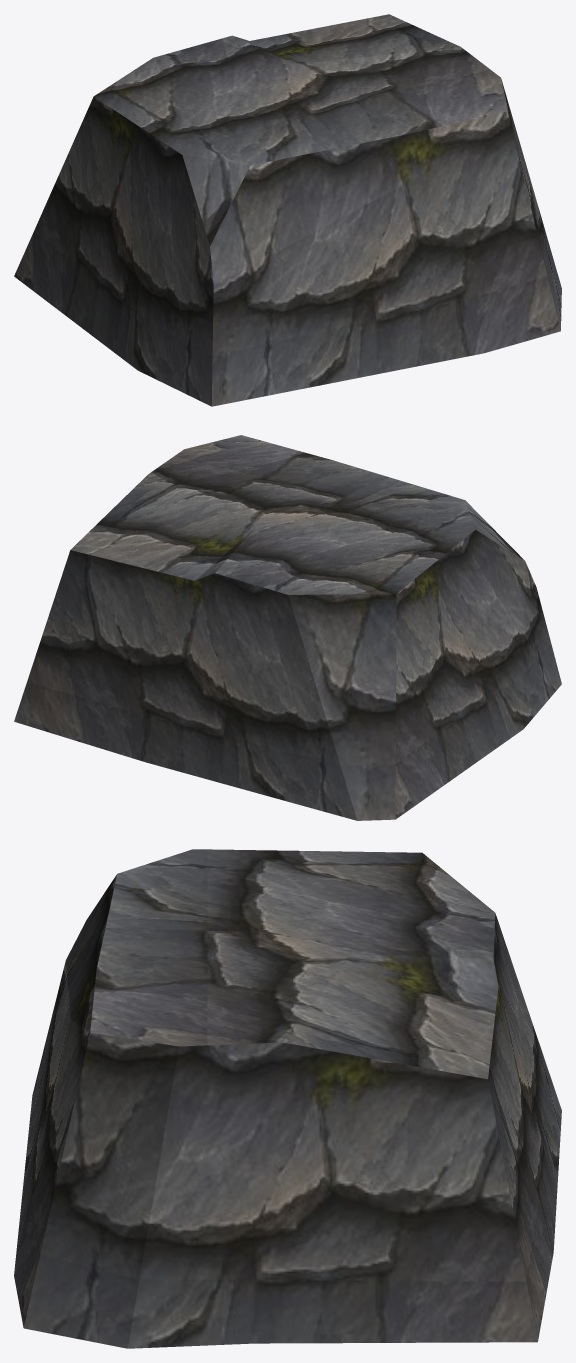
File: gpebble_square_4.glb
3 renders of one model, top to bottom at view 1: azimuth 30°, elevation 25°; view 2: azimuth 150°, elevation 25°; view 3: azimuth 270°, elevation 25°, orthographic. The views are drawn at different scales.
Parts seen in each view (by area): view 1: model; view 2: model; view 3: model.
Boxes of the visible parts, x1=… form: model: x1=14, y1=14, x2=561, y2=406; model: x1=14, y1=435, x2=561, y2=820; model: x1=14, y1=849, x2=561, y2=1348.
Bounding box in the file's own units: 0.3395 × 0.1706 × 0.2981.
Materials: 1 (1 with a texture image).
